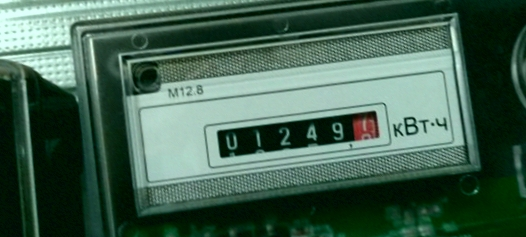0: (223, 130, 240, 151)
1: (250, 127, 265, 149)
2: (275, 124, 294, 148)
4: (304, 121, 319, 142)
7: (357, 111, 372, 132)
9: (330, 119, 345, 142)
screen: (200, 97, 396, 171)
